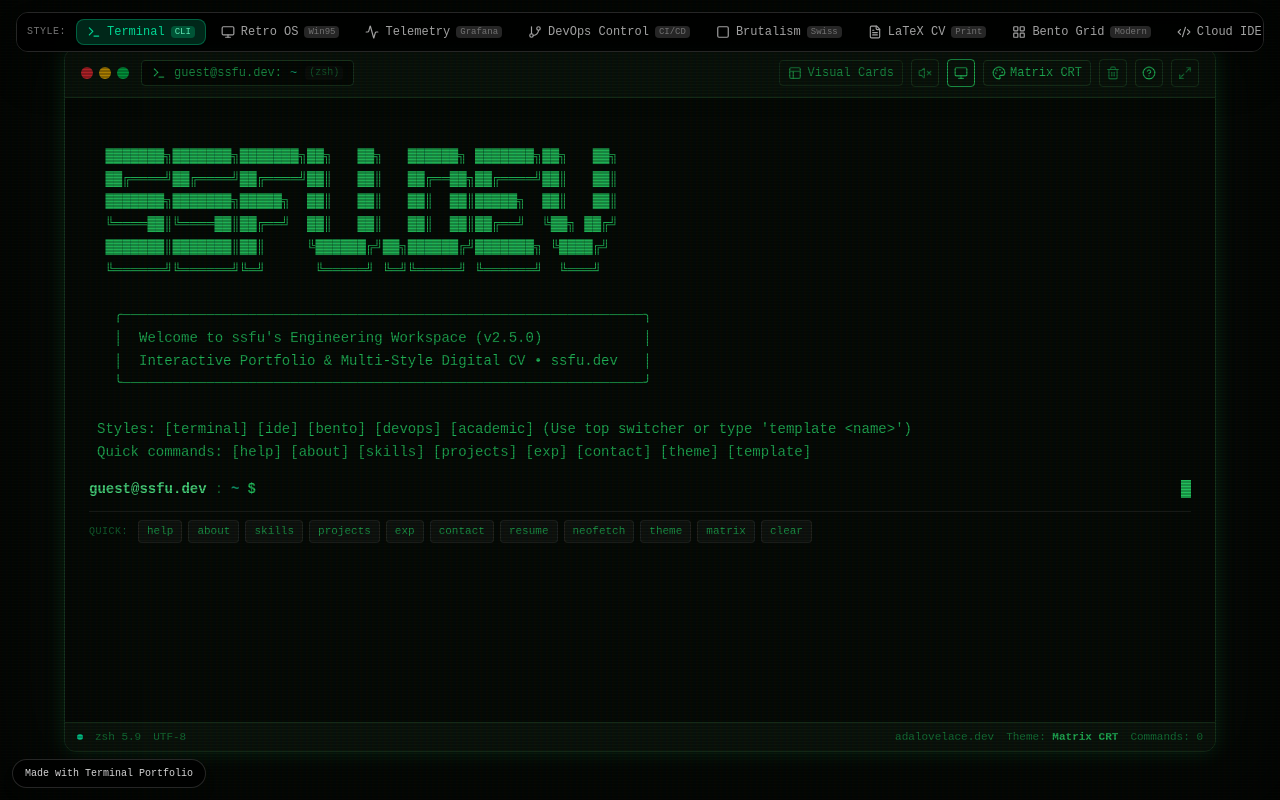
Test: App browser state integration › builds the sudo hire me result from the active portfolio configuration
Type "sudo hire me" into the field with id "terminal-active-input". click: (723, 489)
box: [264,479,1182,499]
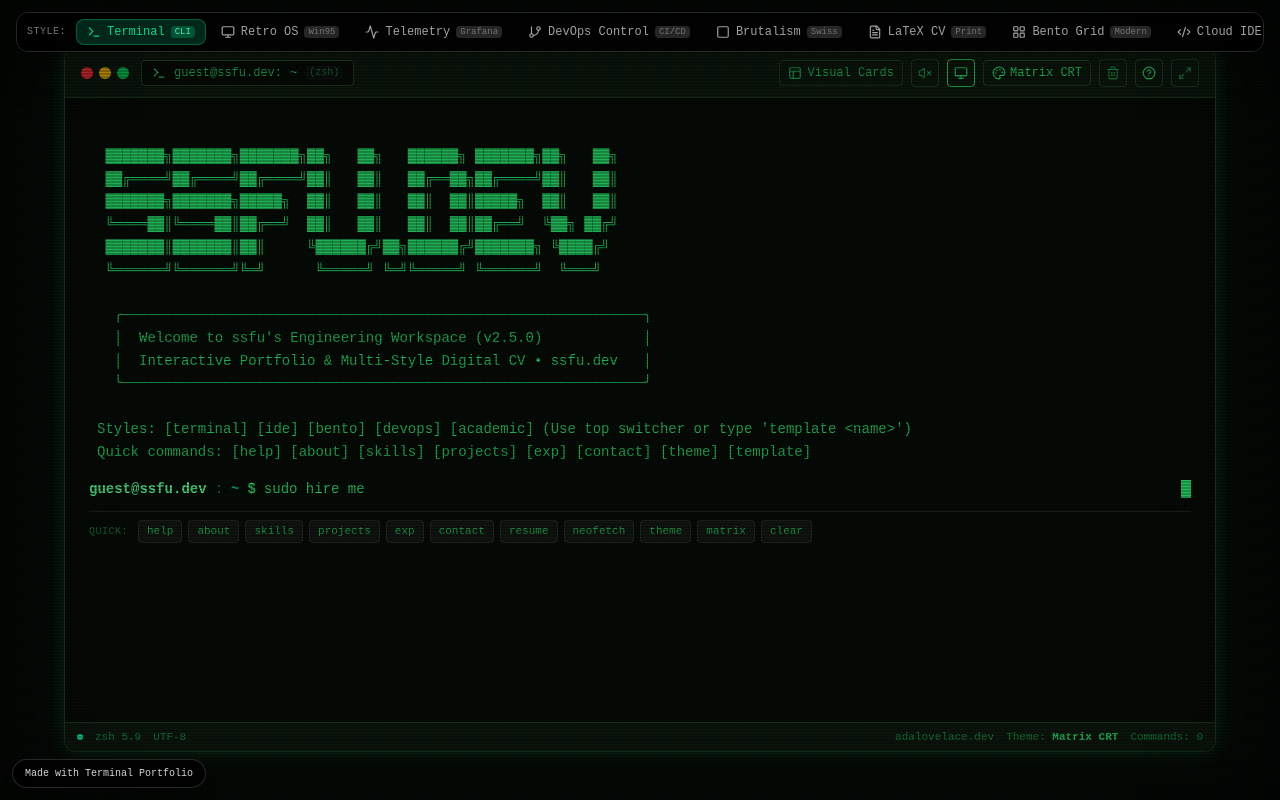
Press Enter in the field with id "terminal-active-input", box [264,479,1182,499]
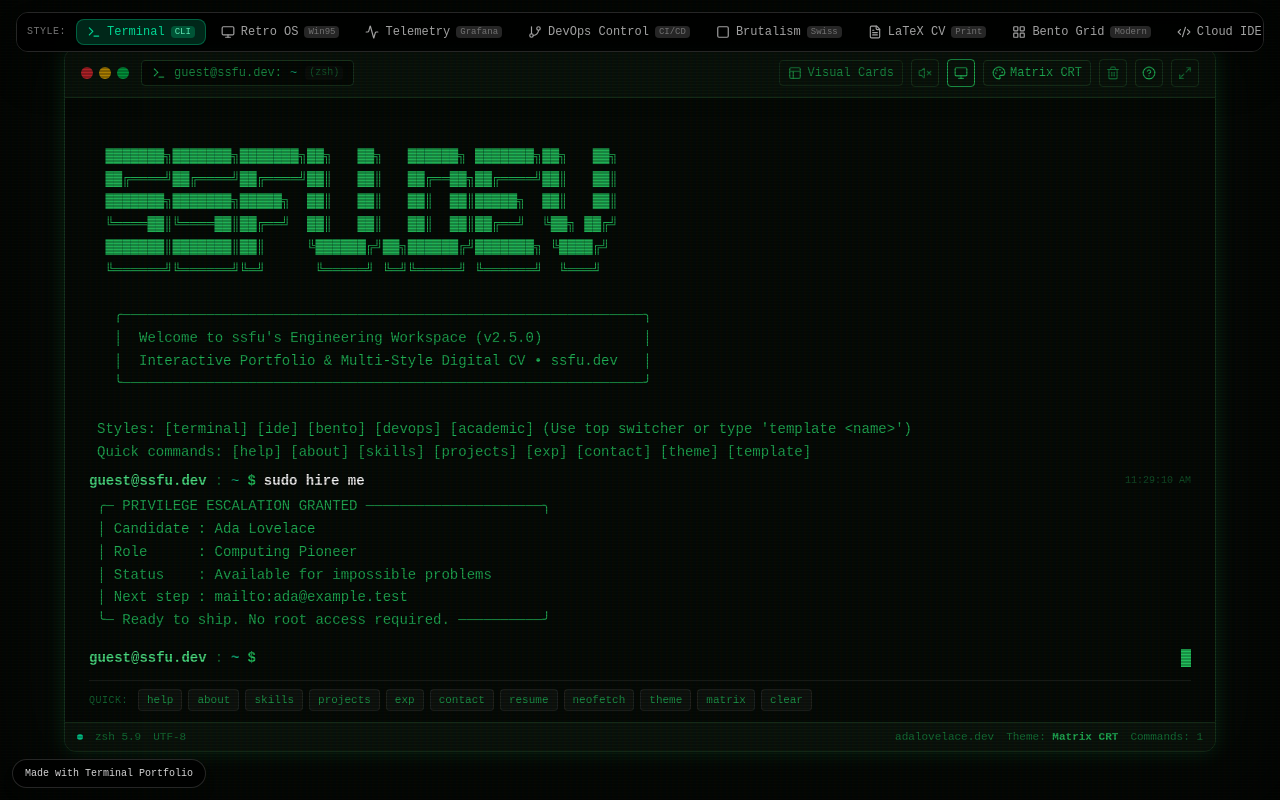
Now the text "PRIVILEGE ESCALATION GRANTED" is shown, box [97,498,551,628]
